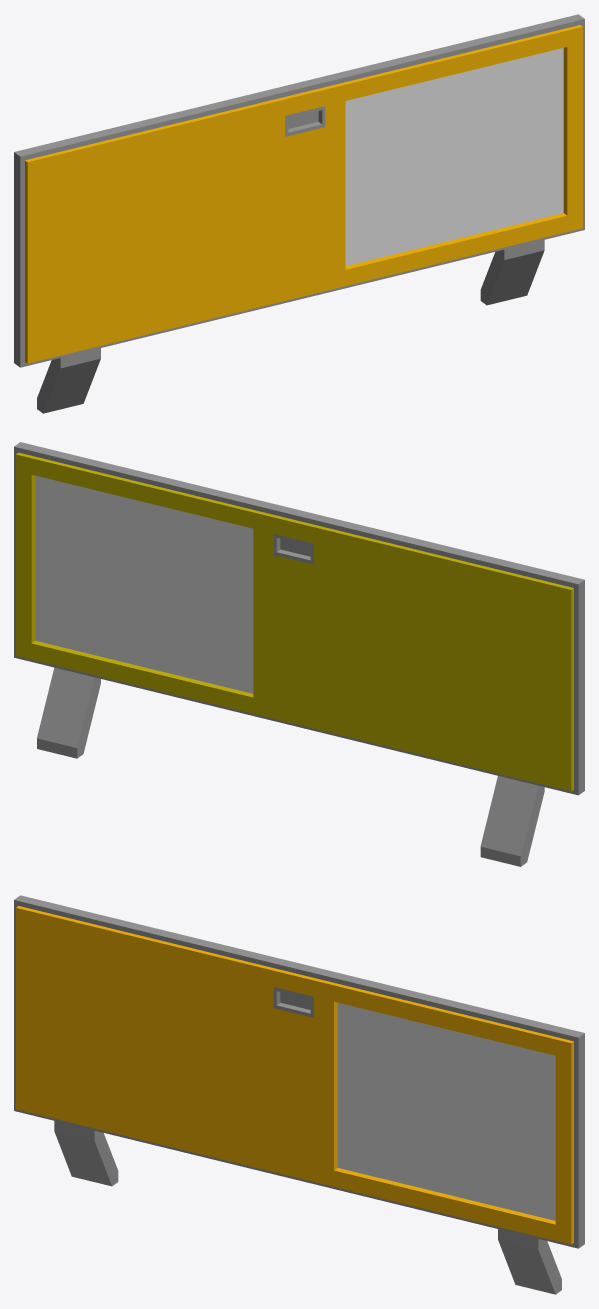
The model's file is door_manual_flush_outswing_window_7x3_dynamic.dae.
3 views of the same model, one above another, from view 1: azimuth 30°, elevation 25°; view 2: azimuth 150°, elevation 25°; view 3: azimuth 330°, elevation 25° (orthographic).
Visible parts, largest first — view 1: Cube; view 2: Cube; view 3: Cube.
Part boxes in pixels (x1=…): Cube: x1=14, y1=14, x2=584, y2=413; Cube: x1=14, y1=442, x2=584, y2=866; Cube: x1=14, y1=895, x2=584, y2=1294.
Size of the model in its own units: 1.75 by 0.1421 by 0.8281.
